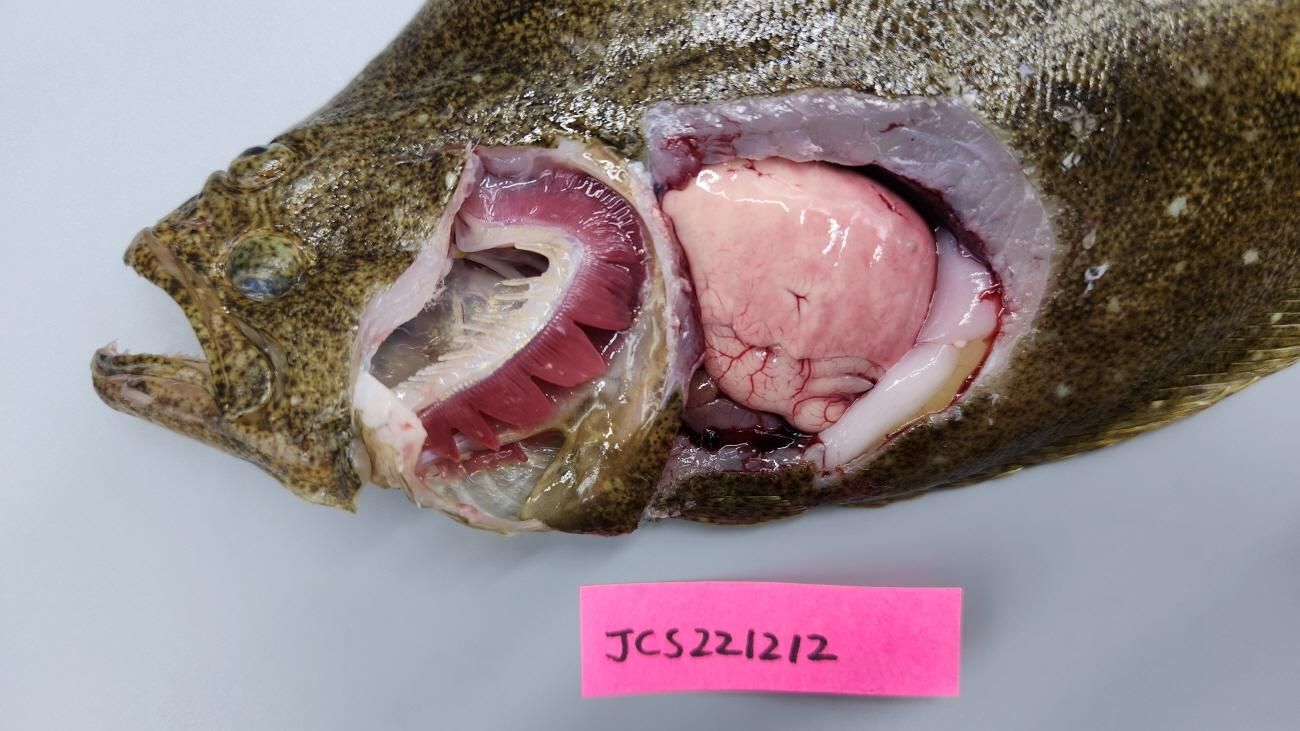POLIN: (661, 156, 939, 371)
